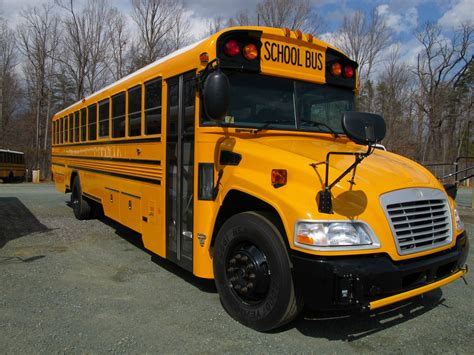bus: (52, 29, 466, 316)
